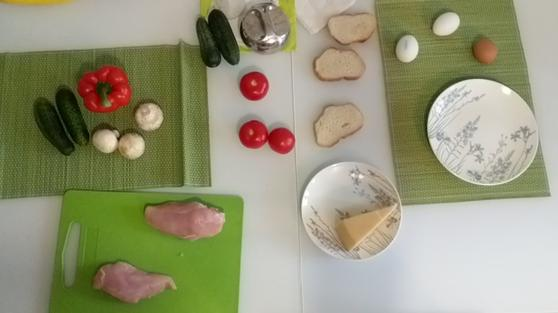champignon: (138, 98, 164, 134), (91, 128, 120, 156), (120, 130, 145, 158)
cheese: (335, 203, 399, 256)
chicken_fillet: (142, 195, 227, 245), (92, 256, 179, 303)
cucumber: (32, 97, 76, 158), (55, 84, 89, 148), (209, 6, 241, 67), (192, 14, 221, 70)
egg: (471, 35, 500, 67), (427, 10, 463, 35), (395, 34, 418, 66)
pepper: (78, 66, 133, 111)
tomato: (238, 117, 269, 150), (241, 67, 268, 103), (268, 125, 296, 154)
white_bread: (315, 102, 364, 147), (314, 42, 365, 81), (328, 10, 375, 44)
